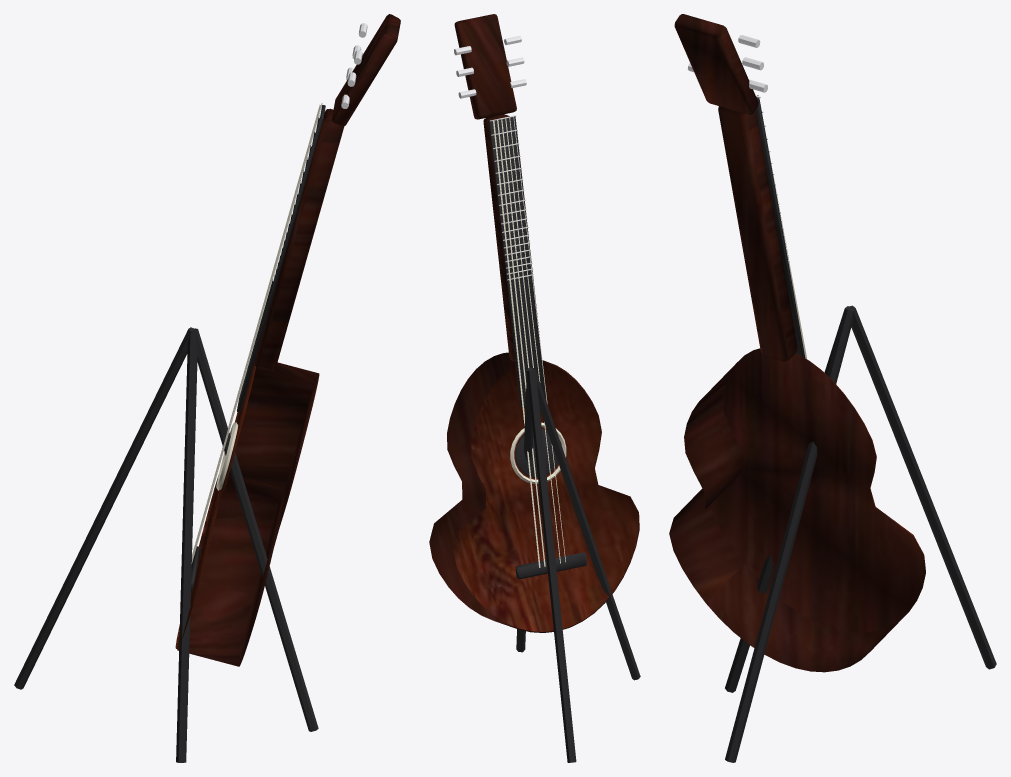
The model's file is stage_guitar.glb.
3 views of the same model, side by side, from view 1: azimuth 30°, elevation 25°; view 2: azimuth 150°, elevation 25°; view 3: azimuth 270°, elevation 25° (orthographic). The views are drawn at different scales.
Visible parts, largest first — view 1: Guitar back, Stage black.001, Guitar top, Guitar string, Stage chrome.001; view 2: Guitar top, Stage black.001, Guitar back, Guitar string, Stage chrome.001, Rosette; view 3: Guitar back, Stage black.001, Stage chrome.001.
Boxes of the visible parts, bbox=[...] form: Guitar back: bbox=[177, 14, 400, 666]; Stage black.001: bbox=[14, 105, 325, 762]; Guitar top: bbox=[175, 362, 255, 649]; Guitar string: bbox=[191, 105, 320, 563]; Stage chrome.001: bbox=[272, 23, 367, 281]; Guitar top: bbox=[453, 362, 639, 632]; Stage black.001: bbox=[489, 116, 640, 762]; Guitar back: bbox=[429, 14, 639, 632]; Guitar string: bbox=[493, 116, 565, 567]; Stage chrome.001: bbox=[454, 36, 533, 280]; Rosette: bbox=[510, 422, 566, 483]; Guitar back: bbox=[669, 14, 925, 672]; Stage black.001: bbox=[725, 97, 996, 762]; Stage chrome.001: bbox=[688, 35, 789, 262].
Size of the model in its own units: 0.4734 by 1.21 by 0.4642.
Materials: 6 (2 with a texture image).
